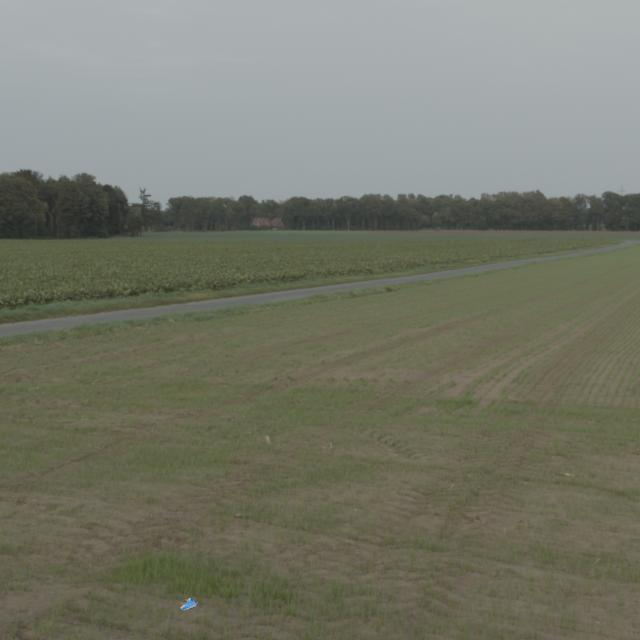Airaplan: (180, 598, 198, 610)
